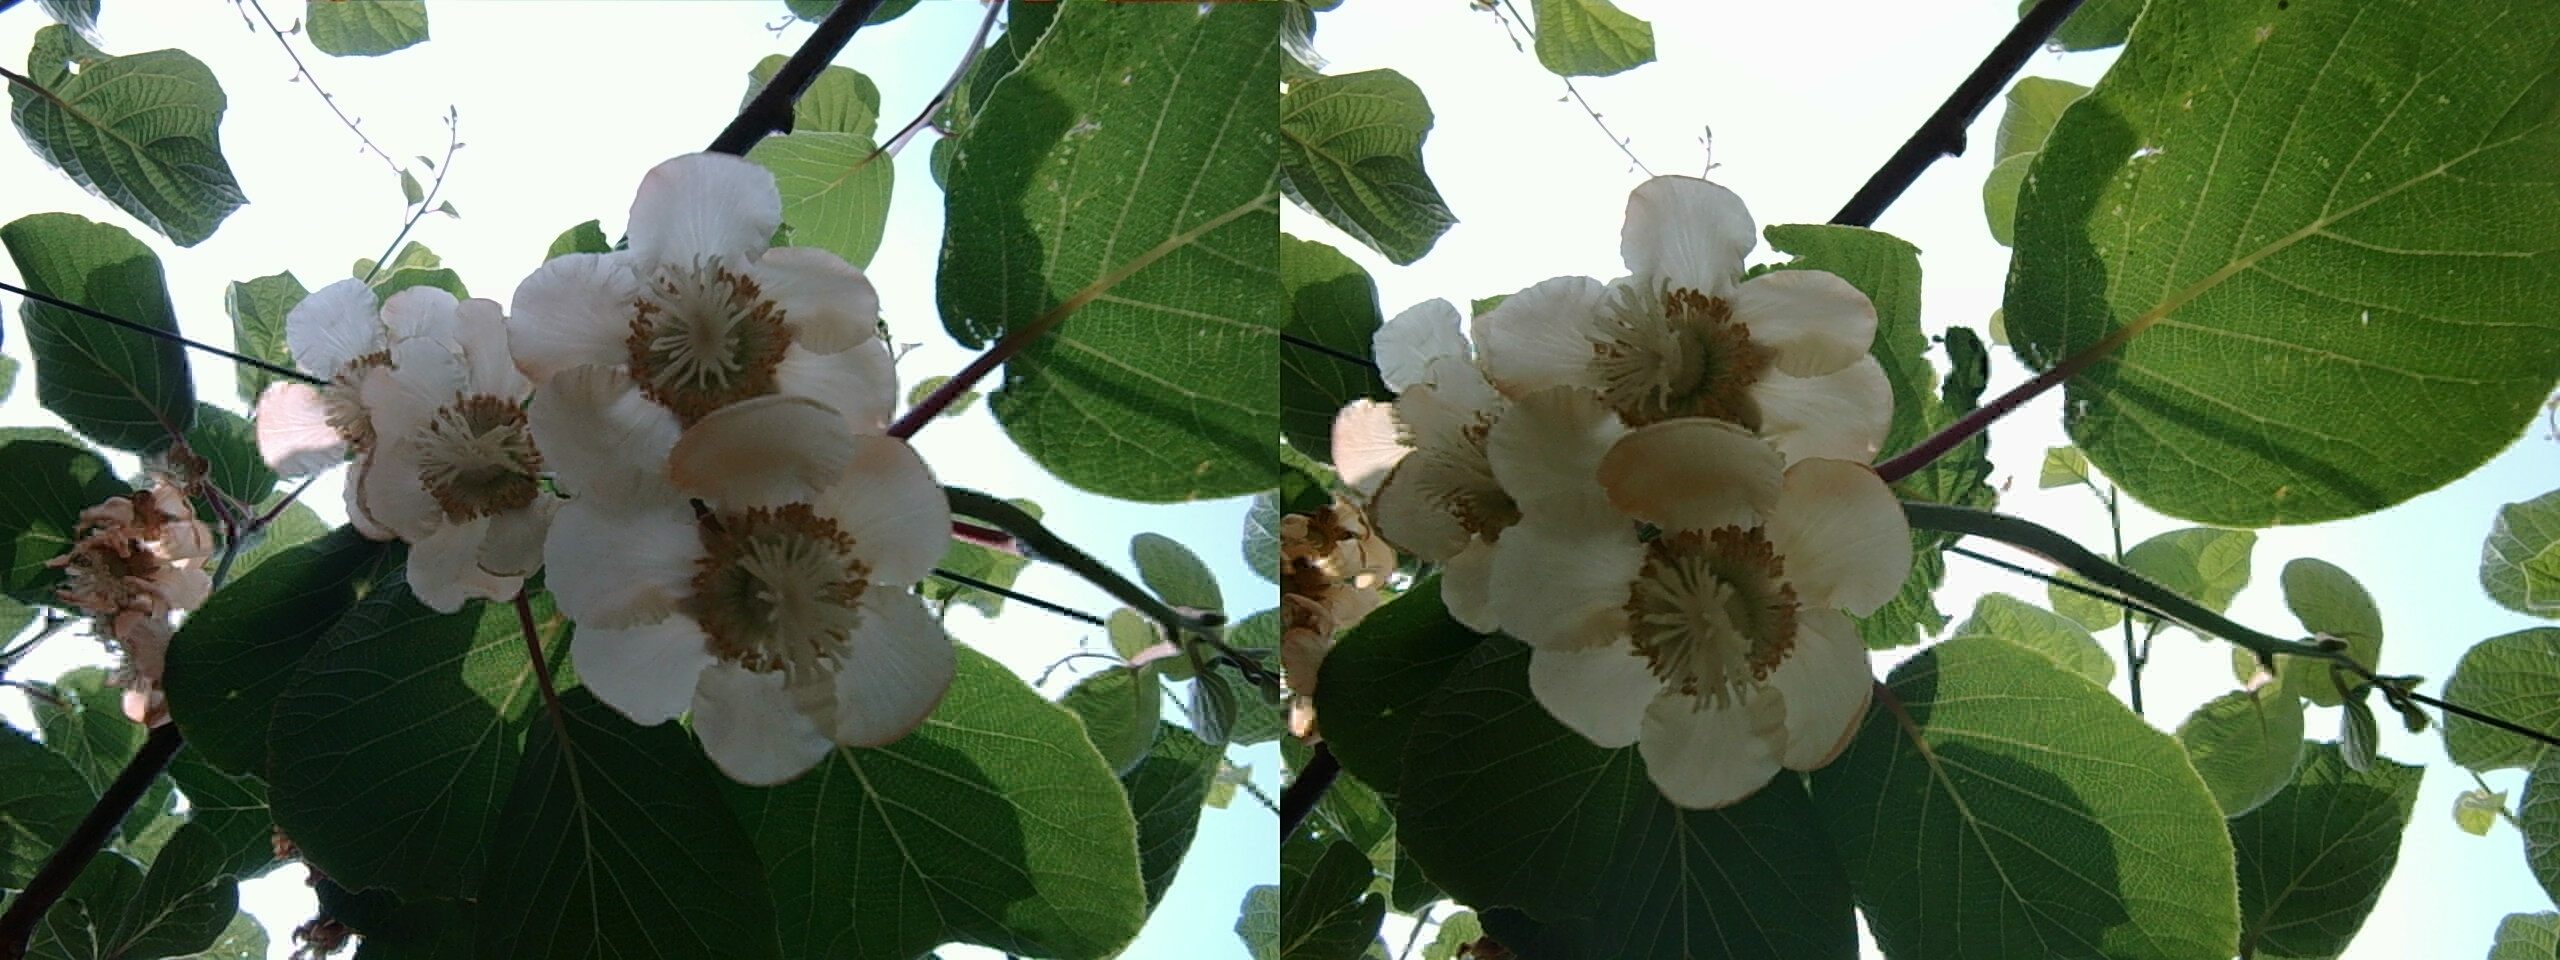flower: (563, 393, 962, 762), (1530, 424, 1891, 798), (1484, 181, 1874, 473), (518, 176, 887, 452), (317, 292, 601, 586), (1437, 376, 1654, 638)
